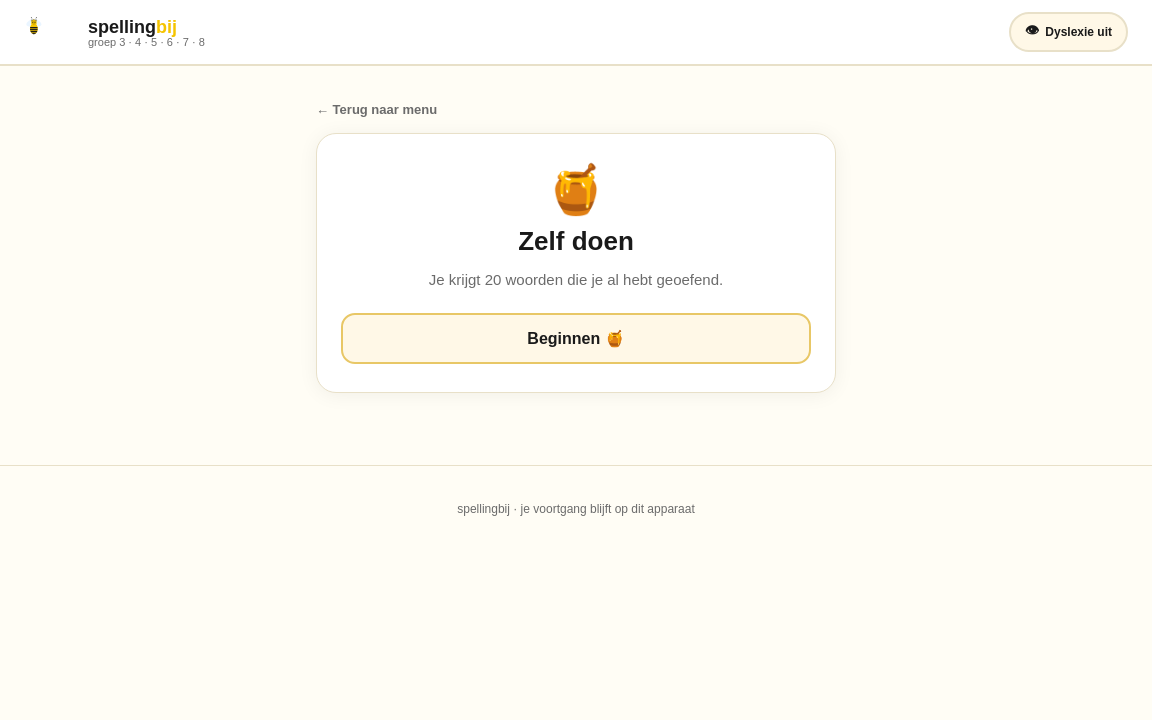
Scenario: na het oefenen van een categorie kan een ronde beginnen, zonder feedback per item
The image size is (1152, 720).
Click the button "Beginnen 🍯" at coordinates (576, 338), box [341,312,811,364]
Wait 3500 ms
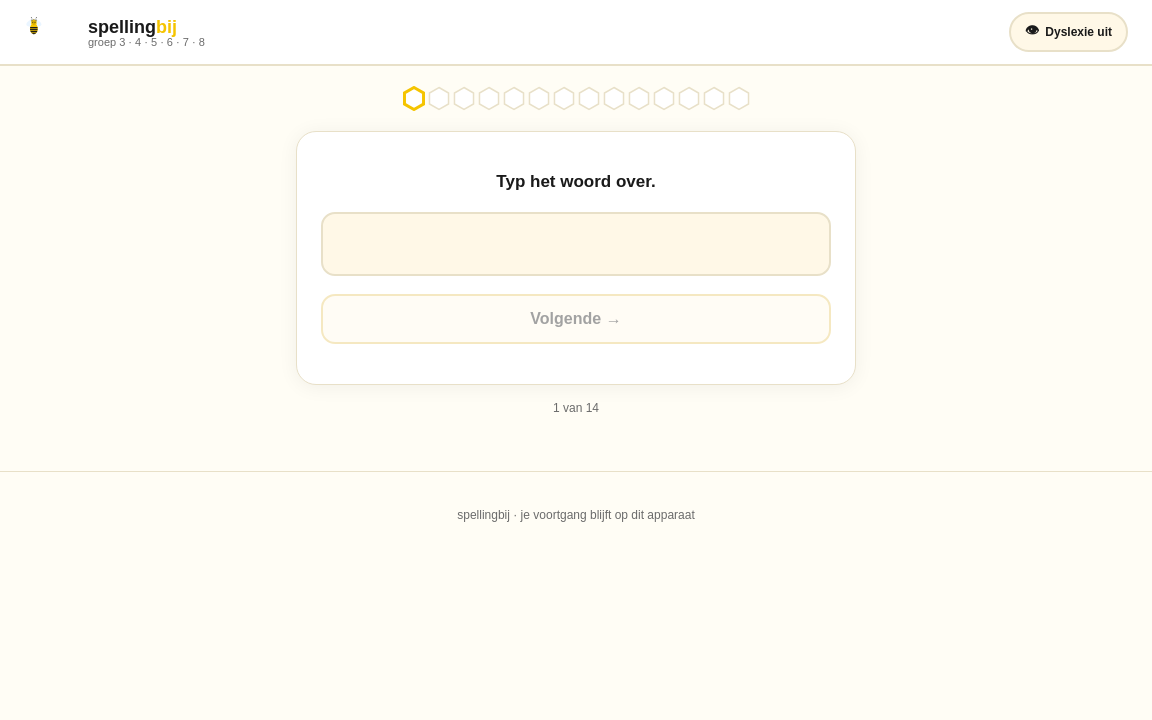
Result: the text "Kijk goed" is shown at [496,172,656,191]
Result: the field is shown
Type "helemaal fout" into the field at coordinates (576, 244), box [321,212,831,276]
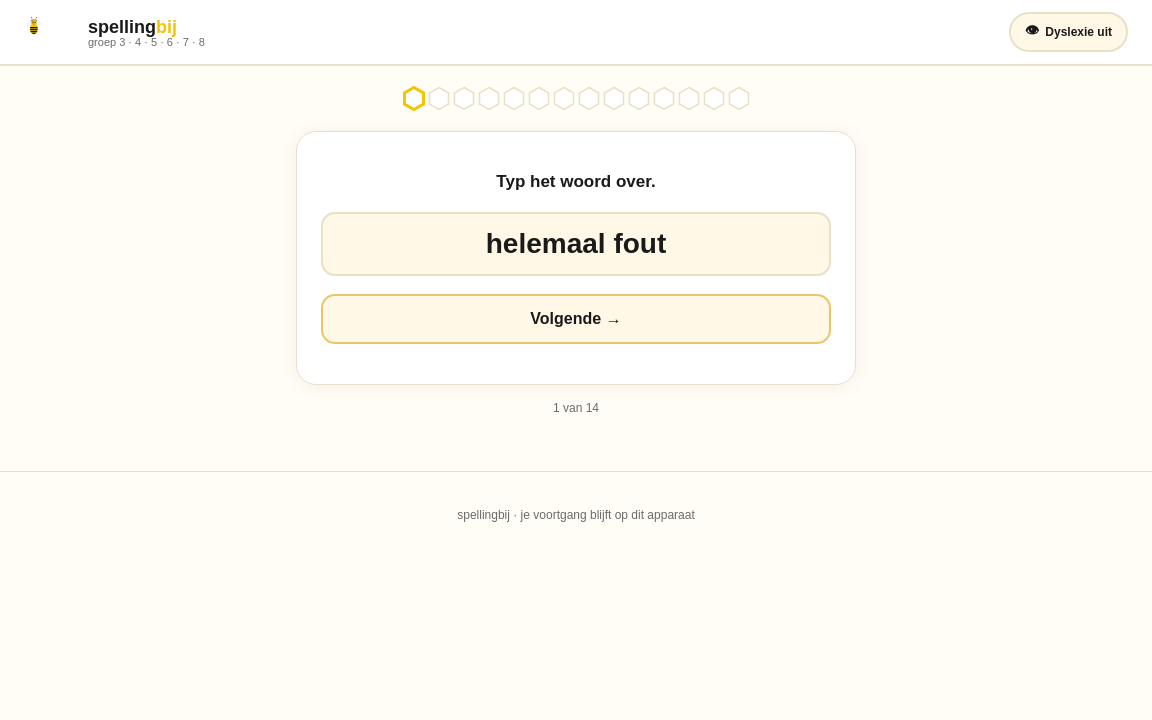
Click the button "Volgende →" at coordinates (576, 319), box [321,294,831,344]
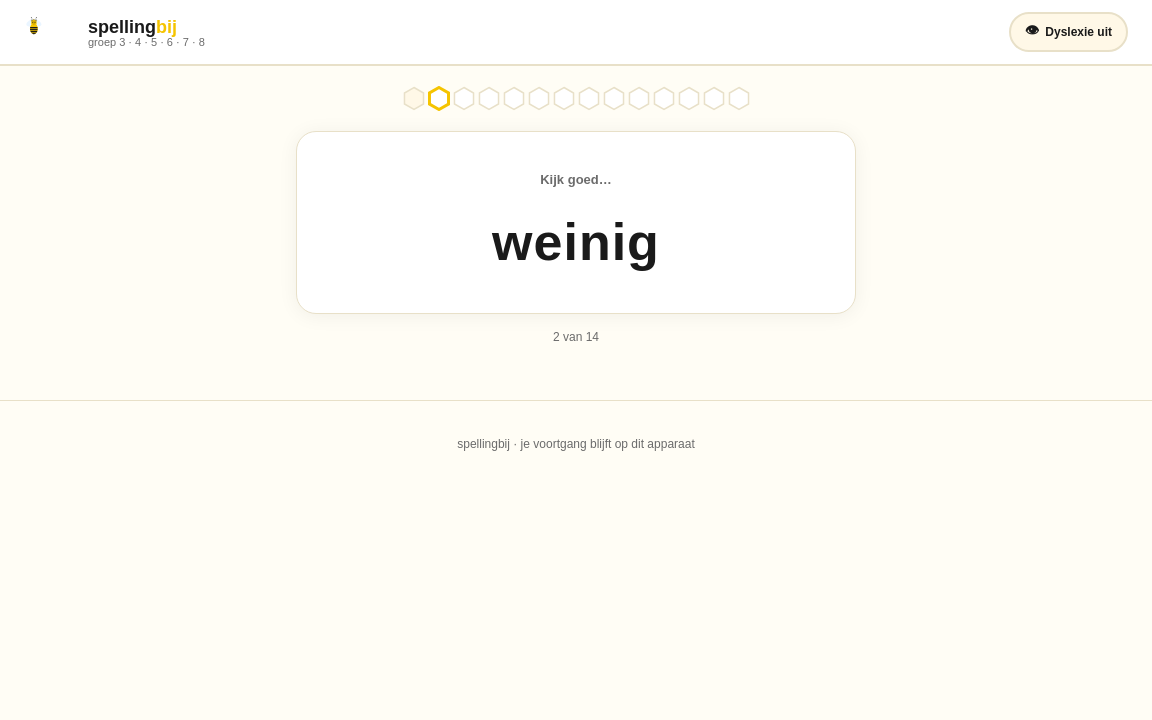
Result: the text "Kijk goed…" is shown at [540,172,612,187]
